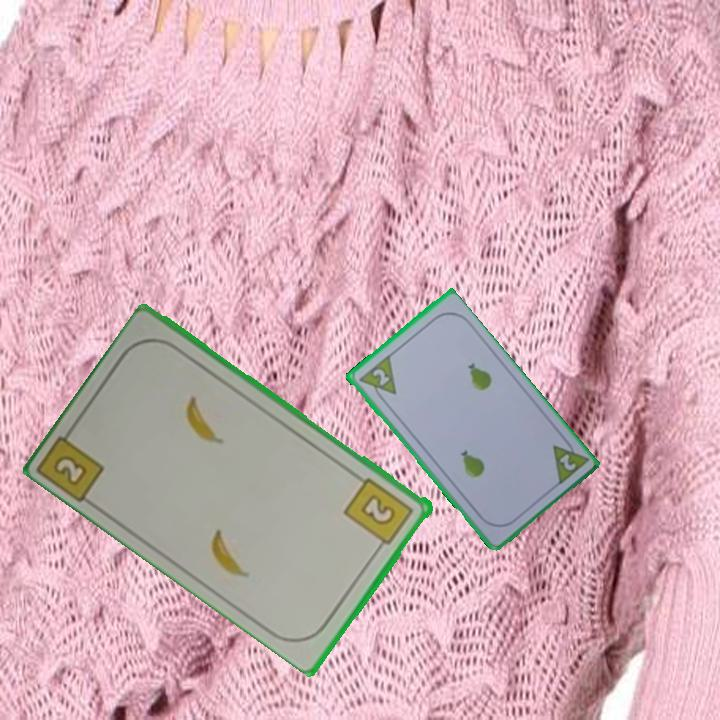2b: (341, 473, 417, 554), (37, 420, 108, 505)
2p: (548, 432, 590, 489), (368, 365, 392, 388)
